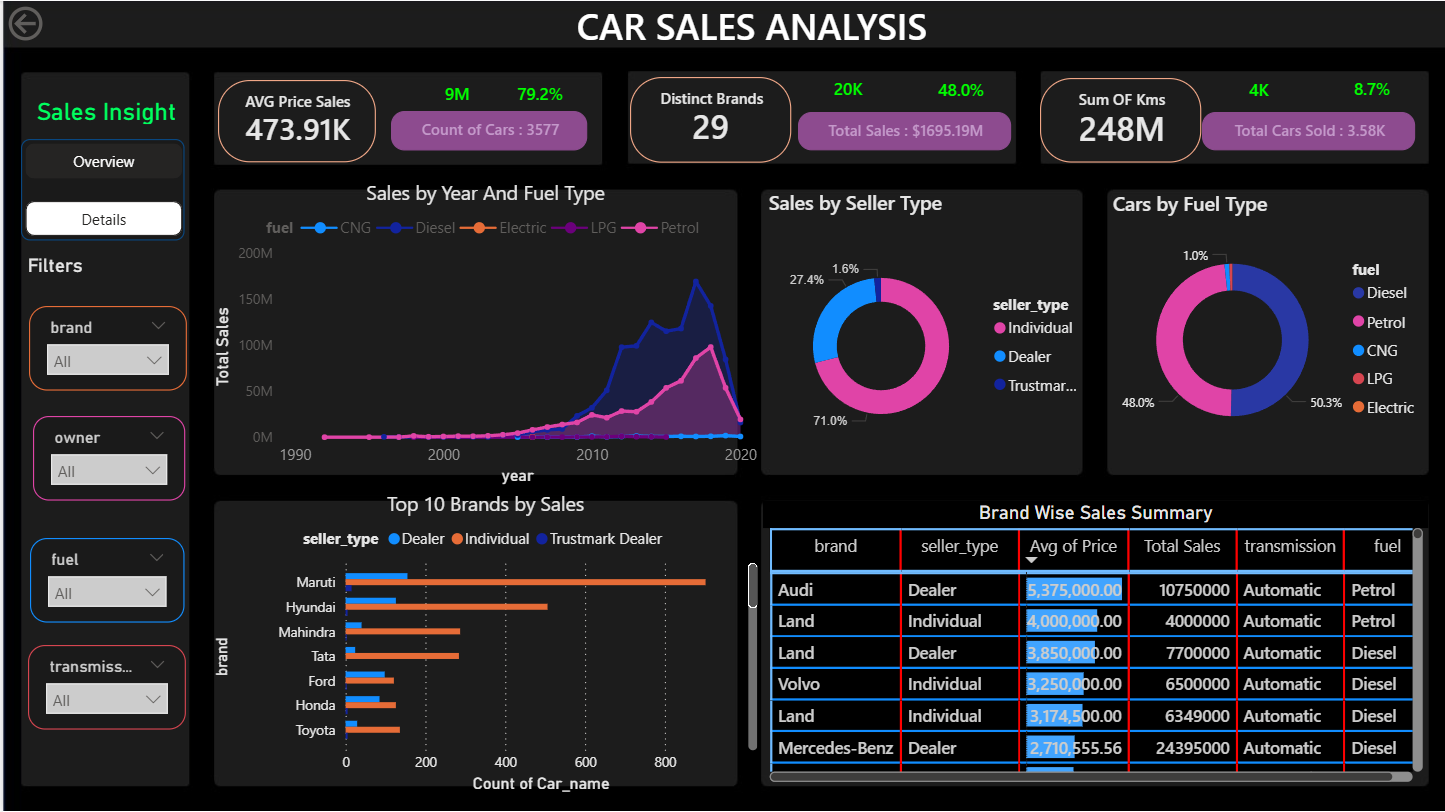

What the dashboard file says about the page in this screenshot:
{"tool":"powerbi","page":{"name":"Overview","canvas":[1280,720],"ordinal":0},"visuals":[{"type":"card","title":"AVG Price Sales","fields":{"Values":["CAR-DETAILS-CLEANED.Avg of Price"]},"box":[190.7,69.8,139.5,73.3],"z":0},{"type":"card","fields":{"Values":["CAR-DETAILS-CLEANED.Max Price"]},"box":[352.3,67.4,101.2,34.9],"z":1000},{"type":"card","fields":{"Values":["CAR-DETAILS-CLEANED.Percent Individual Cars"]},"box":[425.6,67.4,101.2,34.9],"z":2000},{"type":"card","fields":{"Values":["CAR-DETAILS-CLEANED.Cars Count KPI"]},"box":[344.2,97.7,174.4,35],"z":3000},{"type":"card","title":"Distinct Brands","fields":{"Values":["CAR-DETAILS-CLEANED.Distinct Brands"]},"box":[555.8,67.4,143,75.6],"z":4000},{"type":"card","fields":{"Values":["CAR-DETAILS-CLEANED.Min Price"]},"box":[698.8,62.8,101.2,34.9],"z":5000},{"type":"card","fields":{"Values":["CAR-DETAILS-CLEANED.Percent Petrol Cars"]},"box":[799.2,63.2,100.8,35.2],"z":6000},{"type":"card","fields":{"Values":["CAR-DETAILS-CLEANED.MTD Sales KPI"]},"box":[704.5,98.4,189.5,34],"z":7000},{"type":"card","title":"Sum OF Kms","fields":{"Values":["Sum(CAR-DETAILS-CLEANED.km_driven)"]},"box":[919.5,68,143.3,75.3],"z":8000},{"type":"card","fields":{"Values":["CAR-DETAILS-CLEANED.Total Cars"]},"box":[1062.8,63.2,100.8,35.2],"z":9000},{"type":"card","fields":{"Values":["CAR-DETAILS-CLEANED.Percent Automatic Cars"]},"box":[1163.6,61.9,100.8,35.2],"z":10000},{"type":"card","fields":{"Values":["CAR-DETAILS-CLEANED.Diesel Sales"]},"box":[1062.8,98.4,189.5,34],"z":11000},{"type":"areaChart","title":"Sales by Year And Fuel Type","fields":{"Category":["CAR-DETAILS-CLEANED.year"],"Y":["CAR-DETAILS-CLEANED.Total Sales"],"Series":["CAR-DETAILS-CLEANED.fuel"]},"box":[181.8,157.8,492.1,275.8],"z":12000},{"type":"donutChart","title":"Sales by Seller Type","fields":{"Category":["CAR-DETAILS-CLEANED.seller_type"],"Y":["Sum(CAR-DETAILS-CLEANED.selling_price)"]},"box":[673.9,166.7,295.3,255.4],"z":13000},{"type":"donutChart","title":"Cars by Fuel Type","fields":{"Category":["CAR-DETAILS-CLEANED.fuel"],"Y":["CountNonNull(CAR-DETAILS-CLEANED.Car_name)"]},"box":[978.9,167.6,286.4,243],"z":14000},{"type":"clusteredBarChart","title":" Top 10 Brands by Sales","fields":{"Category":["CAR-DETAILS-CLEANED.brand"],"Y":["CountNonNull(CAR-DETAILS-CLEANED.Car_name)"],"Series":["CAR-DETAILS-CLEANED.seller_type"]},"box":[181.8,433.6,492.1,273.1],"z":15000},{"type":"tableEx","title":"Brand Wise Sales Summary","fields":{"Values":["CAR-DETAILS-CLEANED.brand","CAR-DETAILS-CLEANED.seller_type","CAR-DETAILS-CLEANED.Avg of Price","CAR-DETAILS-CLEANED.Total Sales","CAR-DETAILS-CLEANED.transmission","CAR-DETAILS-CLEANED.fuel"]},"box":[674.1,443.3,590.3,253.9],"z":16000},{"type":"textbox","title":"CAR SALES ANALYSIS ","box":[504.1,0,389.9,40.1],"z":17000},{"type":"slicer","fields":{"Values":["CAR-DETAILS-CLEANED.brand"]},"box":[23.1,270.9,139.7,75.3],"z":18000},{"type":"slicer","fields":{"Values":["CAR-DETAILS-CLEANED.owner"]},"box":[26.7,368,134.8,75.3],"z":19000},{"type":"slicer","fields":{"Values":["CAR-DETAILS-CLEANED.fuel"]},"box":[24.3,476.1,137.3,75.3],"z":20000},{"type":"slicer","fields":{"Values":["CAR-DETAILS-CLEANED.transmission"]},"box":[21.9,570.9,139.7,75.3],"z":21000},{"type":"textbox","title":"Filters","box":[17,224.7,149.4,20.6],"z":22000},{"type":"textbox","title":"Sales Insight","box":[24.6,84.8,138.4,30.1],"z":23000},{"type":"pageNavigator","box":[16,122.4,145.4,89.6],"z":24000},{"type":"actionButton","box":[0,0,100,40],"z":25000}]}

Visuals, with their boxes in screenshot pixels (x1, y1, x2, y2), scaled from the page's 1280x720 canvas onto the 1445x812 screenshot:
"AVG Price Sales" card: {"left": 215, "top": 79, "right": 373, "bottom": 161}
card - CAR-DETAILS-CLEANED.Max Price: {"left": 398, "top": 76, "right": 512, "bottom": 115}
card - CAR-DETAILS-CLEANED.Percent Individual Cars: {"left": 480, "top": 76, "right": 595, "bottom": 115}
card - CAR-DETAILS-CLEANED.Cars Count KPI: {"left": 389, "top": 110, "right": 585, "bottom": 150}
"Distinct Brands" card: {"left": 627, "top": 76, "right": 789, "bottom": 161}
card - CAR-DETAILS-CLEANED.Min Price: {"left": 789, "top": 71, "right": 903, "bottom": 110}
card - CAR-DETAILS-CLEANED.Percent Petrol Cars: {"left": 902, "top": 71, "right": 1016, "bottom": 111}
card - CAR-DETAILS-CLEANED.MTD Sales KPI: {"left": 795, "top": 111, "right": 1009, "bottom": 149}
"Sum OF Kms" card: {"left": 1038, "top": 77, "right": 1200, "bottom": 162}
card - CAR-DETAILS-CLEANED.Total Cars: {"left": 1200, "top": 71, "right": 1314, "bottom": 111}
card - CAR-DETAILS-CLEANED.Percent Automatic Cars: {"left": 1314, "top": 70, "right": 1427, "bottom": 110}
card - CAR-DETAILS-CLEANED.Diesel Sales: {"left": 1200, "top": 111, "right": 1414, "bottom": 149}
"Sales by Year And Fuel Type" areaChart: {"left": 205, "top": 178, "right": 761, "bottom": 489}
"Sales by Seller Type" donutChart: {"left": 761, "top": 188, "right": 1094, "bottom": 476}
"Cars by Fuel Type" donutChart: {"left": 1105, "top": 189, "right": 1428, "bottom": 463}
" Top 10 Brands by Sales" clusteredBarChart: {"left": 205, "top": 489, "right": 761, "bottom": 797}
"Brand Wise Sales Summary" tableEx: {"left": 761, "top": 500, "right": 1427, "bottom": 786}
"CAR SALES ANALYSIS " textbox: {"left": 569, "top": 0, "right": 1009, "bottom": 45}
slicer - CAR-DETAILS-CLEANED.brand: {"left": 26, "top": 306, "right": 184, "bottom": 390}
slicer - CAR-DETAILS-CLEANED.owner: {"left": 30, "top": 415, "right": 182, "bottom": 500}
slicer - CAR-DETAILS-CLEANED.fuel: {"left": 27, "top": 537, "right": 182, "bottom": 622}
slicer - CAR-DETAILS-CLEANED.transmission: {"left": 25, "top": 644, "right": 182, "bottom": 729}
"Filters" textbox: {"left": 19, "top": 253, "right": 188, "bottom": 277}
"Sales Insight" textbox: {"left": 28, "top": 96, "right": 184, "bottom": 130}
pageNavigator: {"left": 18, "top": 138, "right": 182, "bottom": 239}
actionButton: {"left": 0, "top": 0, "right": 113, "bottom": 45}
